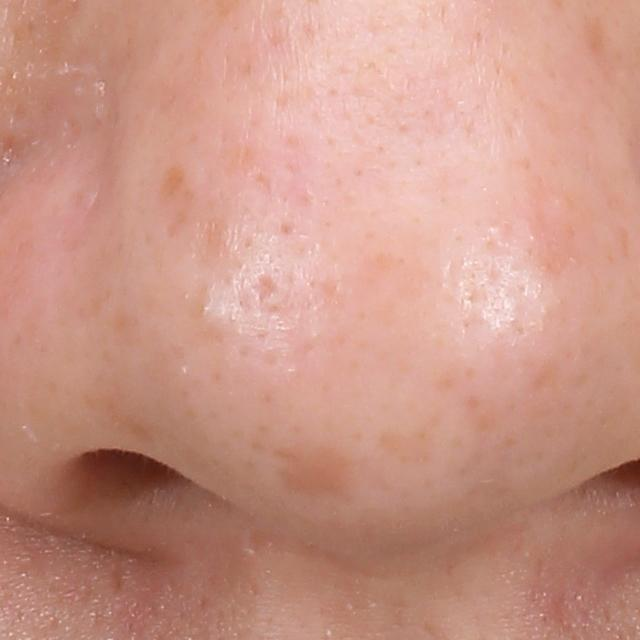atrophic_scar: (248, 270, 278, 304)
melasma: (582, 3, 624, 91), (283, 449, 346, 492), (156, 157, 192, 202)
